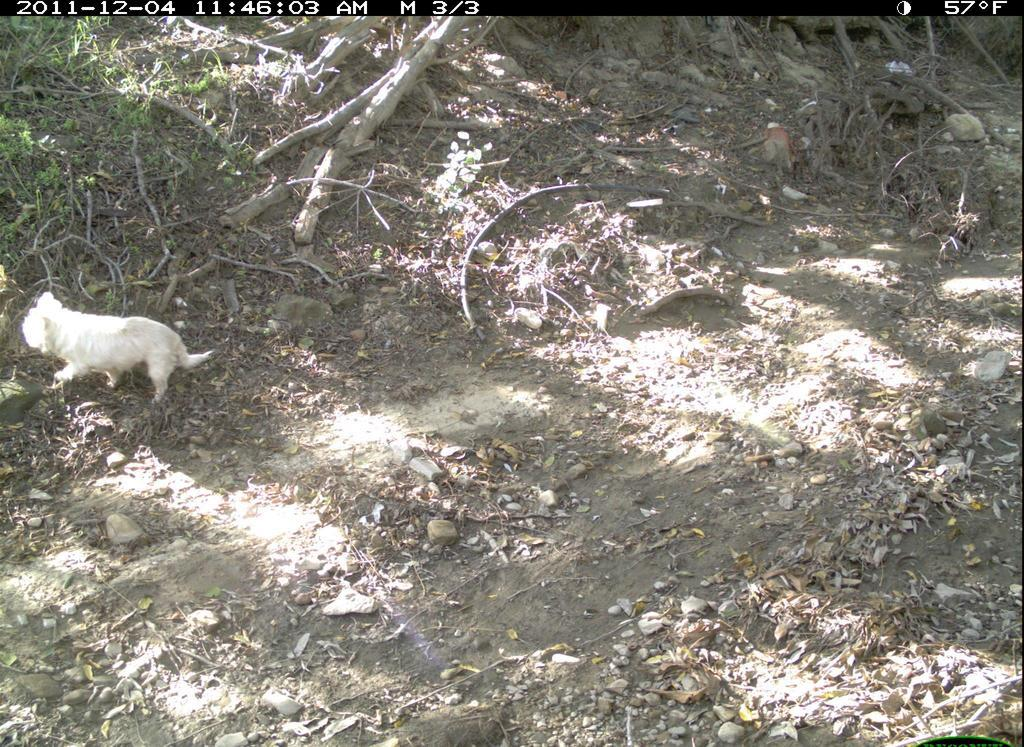dog: (15, 286, 219, 422)
